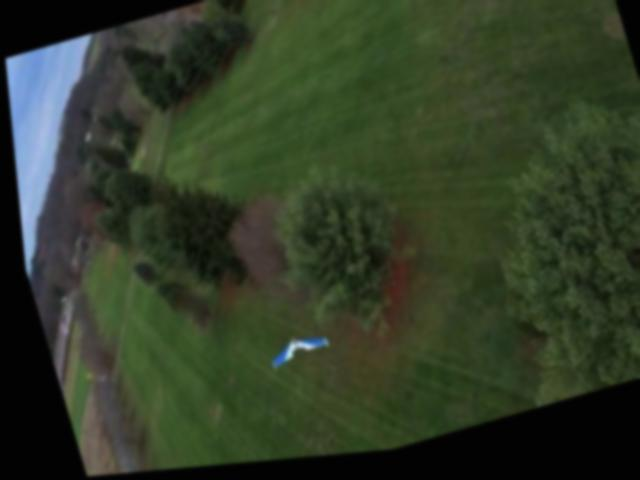flying wing: (255, 330, 327, 380)
